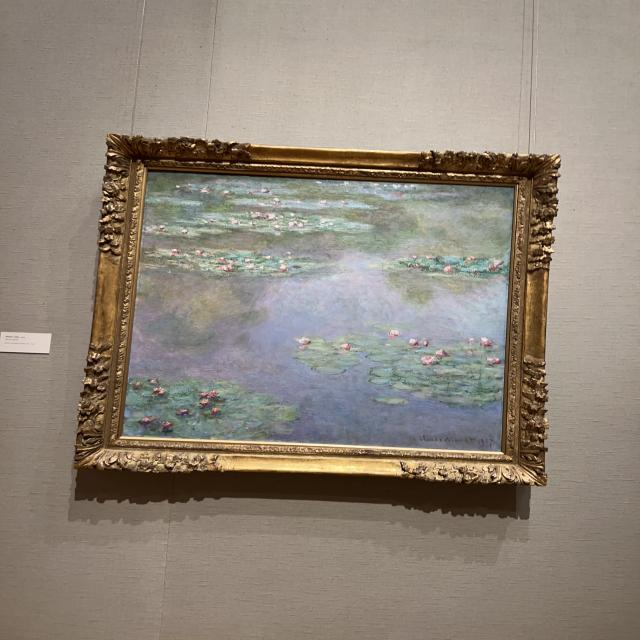lilies: (125, 174, 509, 448)
